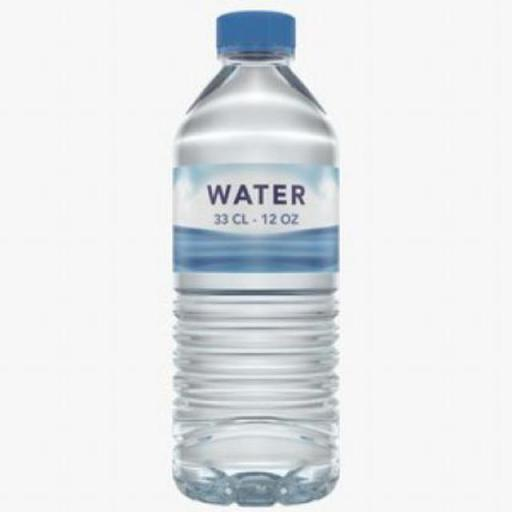Coca: (158, 7, 356, 510)
